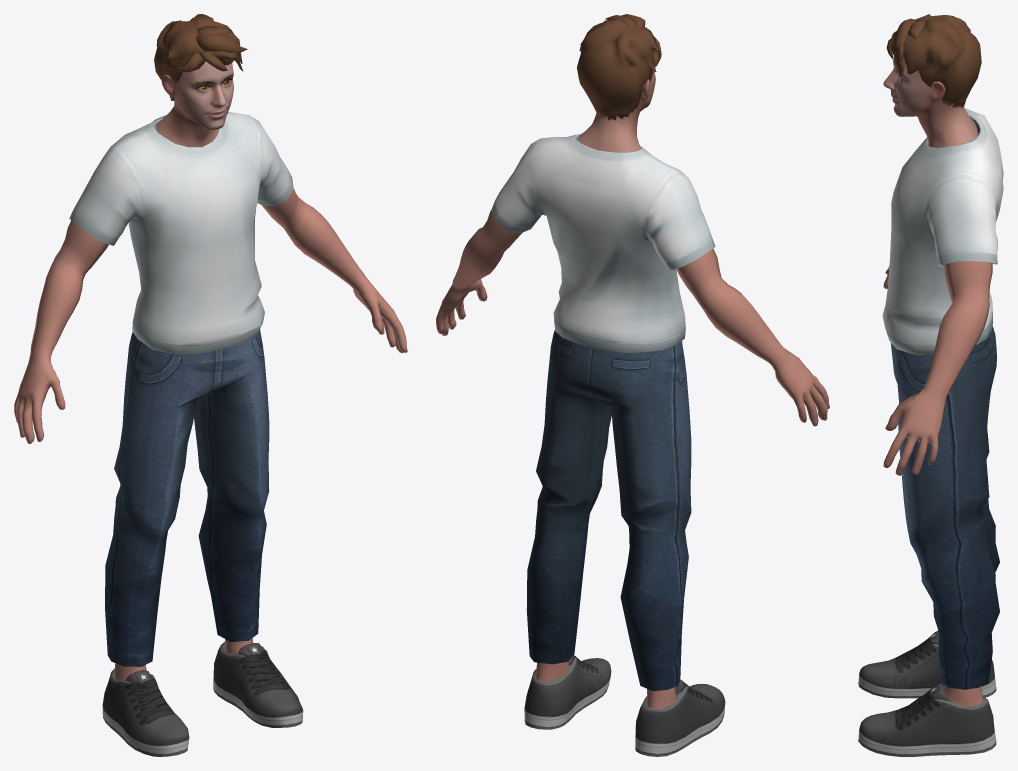
Rendered from martin2.glb.
The picture shows the model from 3 angles, left to right: view 1: azimuth 30°, elevation 25°; view 2: azimuth 150°, elevation 25°; view 3: azimuth 270°, elevation 25°; orthographic projection.
Visible parts, largest first — view 1: Wolf3D_Outfit_Bottom, Wolf3D_Outfit_Top, Wolf3D_Body, Wolf3D_Outfit_Footwear, Wolf3D_Head, Wolf3D_Hair; view 2: Wolf3D_Outfit_Bottom, Wolf3D_Outfit_Top, Wolf3D_Body, Wolf3D_Outfit_Footwear, Wolf3D_Hair, Wolf3D_Head; view 3: Wolf3D_Outfit_Bottom, Wolf3D_Outfit_Top, Wolf3D_Outfit_Footwear, Wolf3D_Body, Wolf3D_Hair, Wolf3D_Head.
Boxes of the visible parts, <box> form: Wolf3D_Outfit_Bottom: <box>105,329,269,666</box>; Wolf3D_Outfit_Top: <box>69,112,293,354</box>; Wolf3D_Body: <box>14,188,407,680</box>; Wolf3D_Outfit_Footwear: <box>102,642,303,756</box>; Wolf3D_Head: <box>155,61,233,147</box>; Wolf3D_Hair: <box>154,14,247,100</box>; Wolf3D_Outfit_Bottom: <box>526,330,691,690</box>; Wolf3D_Outfit_Top: <box>491,134,715,352</box>; Wolf3D_Body: <box>436,210,829,708</box>; Wolf3D_Outfit_Footwear: <box>524,655,725,756</box>; Wolf3D_Hair: <box>577,14,661,120</box>; Wolf3D_Head: <box>577,71,655,152</box>; Wolf3D_Outfit_Bottom: <box>890,326,999,689</box>; Wolf3D_Outfit_Top: <box>882,108,1003,355</box>; Wolf3D_Outfit_Footwear: <box>858,630,996,756</box>; Wolf3D_Body: <box>883,261,992,706</box>; Wolf3D_Hair: <box>886,14,981,107</box>; Wolf3D_Head: <box>883,56,977,148</box>.
Size of the model in its own units: 2.98 by 5.22 by 0.981.
8 materials, 8 textured.
